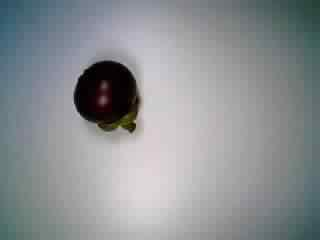mangosteen: (70, 58, 151, 135)
